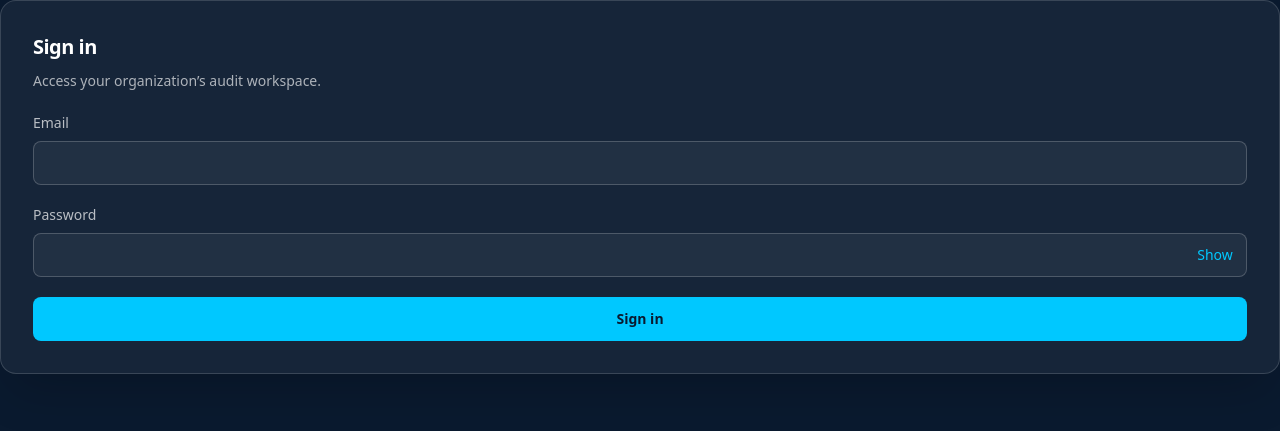
Test: login and register pages › shows the error for wrong credentials and stays put
This screenshot has width=1280, height=431.
Type "owner@acme.io" into the field labelled "Email". click: (640, 163)
box: [33,141,1247,185]
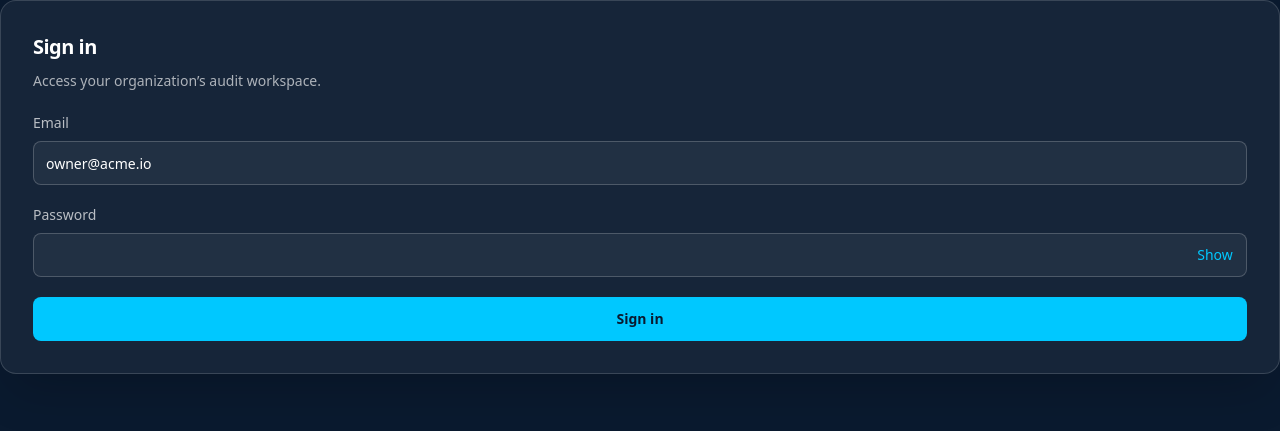
Type "wrong" into the password field labelled "Password". click: (640, 255)
box: [33,233,1247,277]
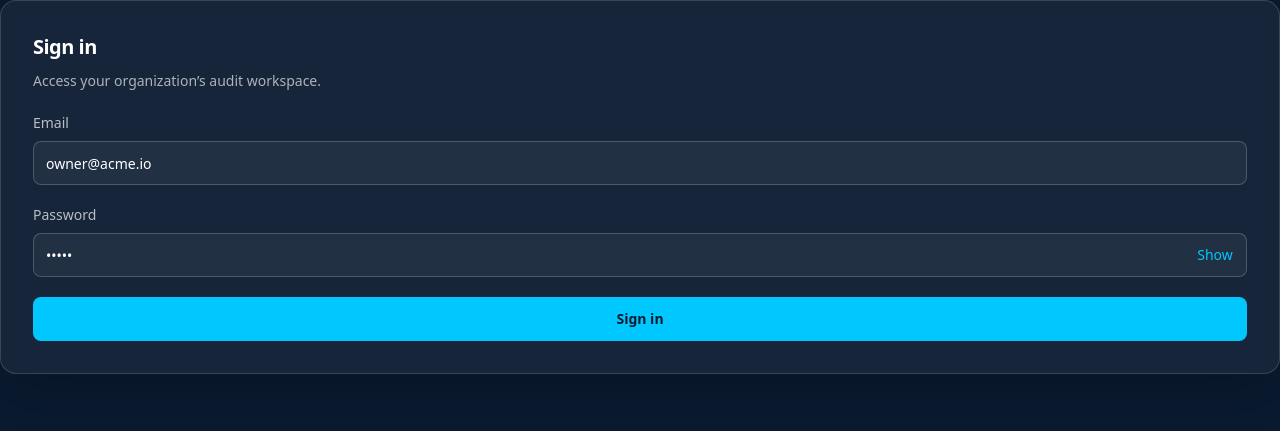
Click the button "Sign in". click: (640, 319)
box: [33,297,1247,341]
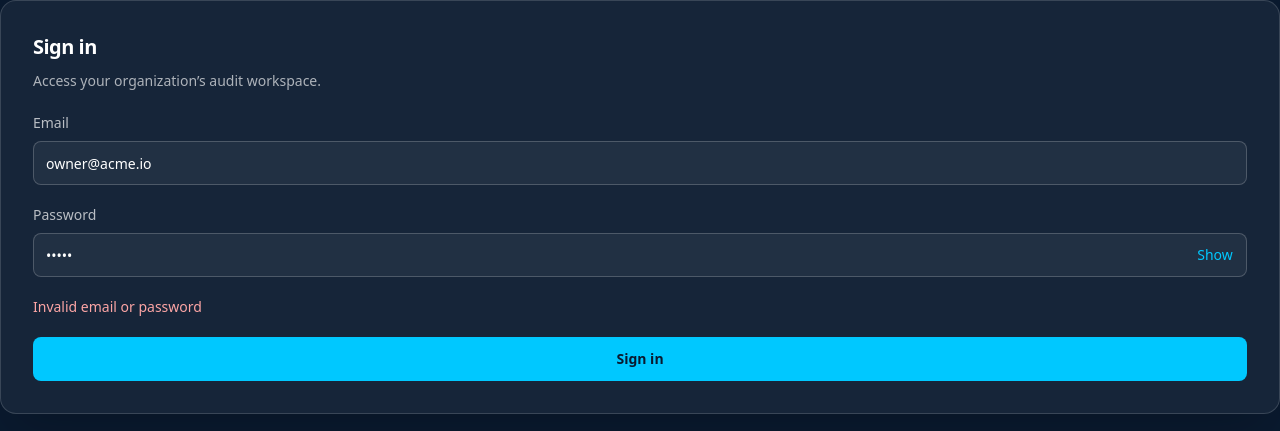
Expected: the button "Sign in" is enabled, [33,337,1247,381]
Now the message reads "Invalid email or password", box [33,297,202,316]
